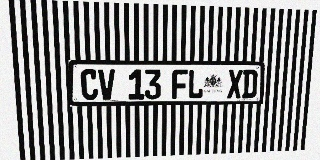1: (128, 69, 144, 99)
3: (145, 69, 161, 99)
C: (81, 69, 98, 100)
D: (242, 70, 258, 98)
F: (172, 69, 188, 99)
L: (188, 69, 204, 99)
V: (98, 69, 115, 100)
X: (227, 70, 243, 98)
